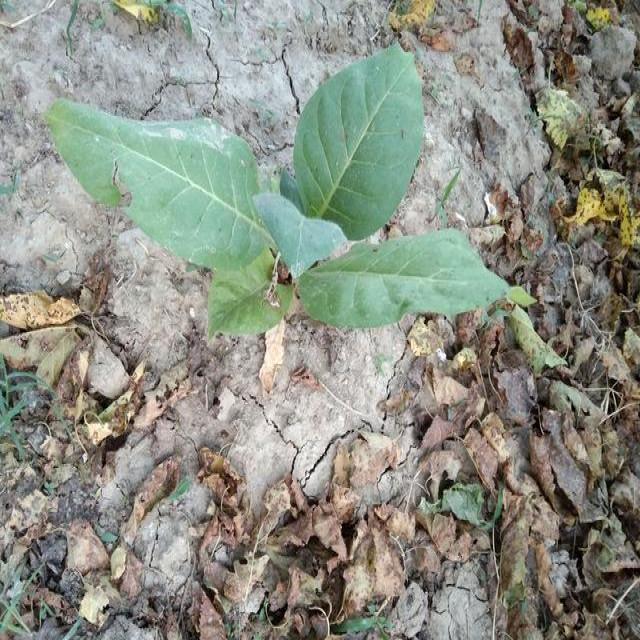crop: (42, 58, 536, 332)
